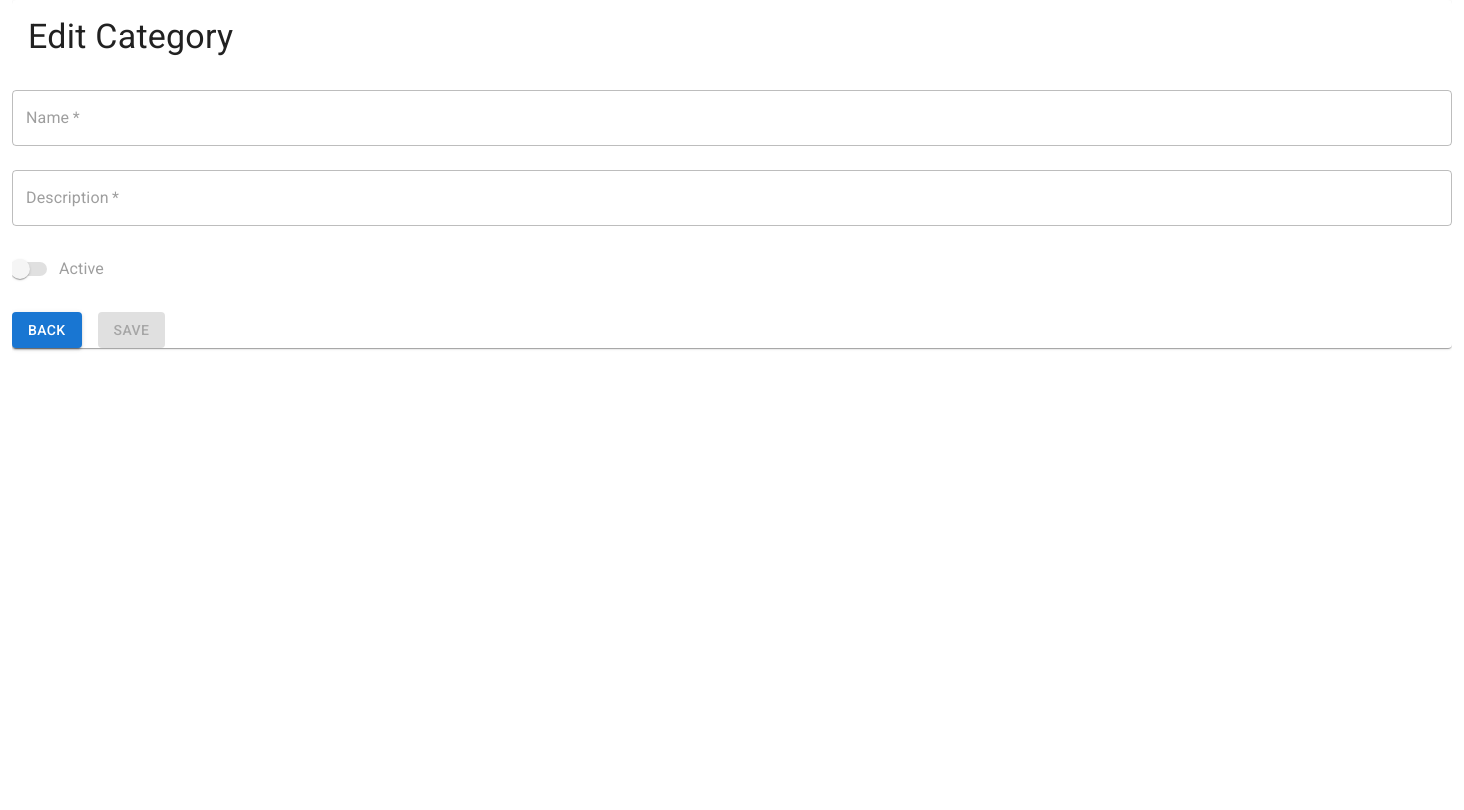
Test: EditCategory › should handle error
The image size is (1464, 810).
Type "test" into the field with test id "name" at x=732, y=118, box [12,90,1452,146]
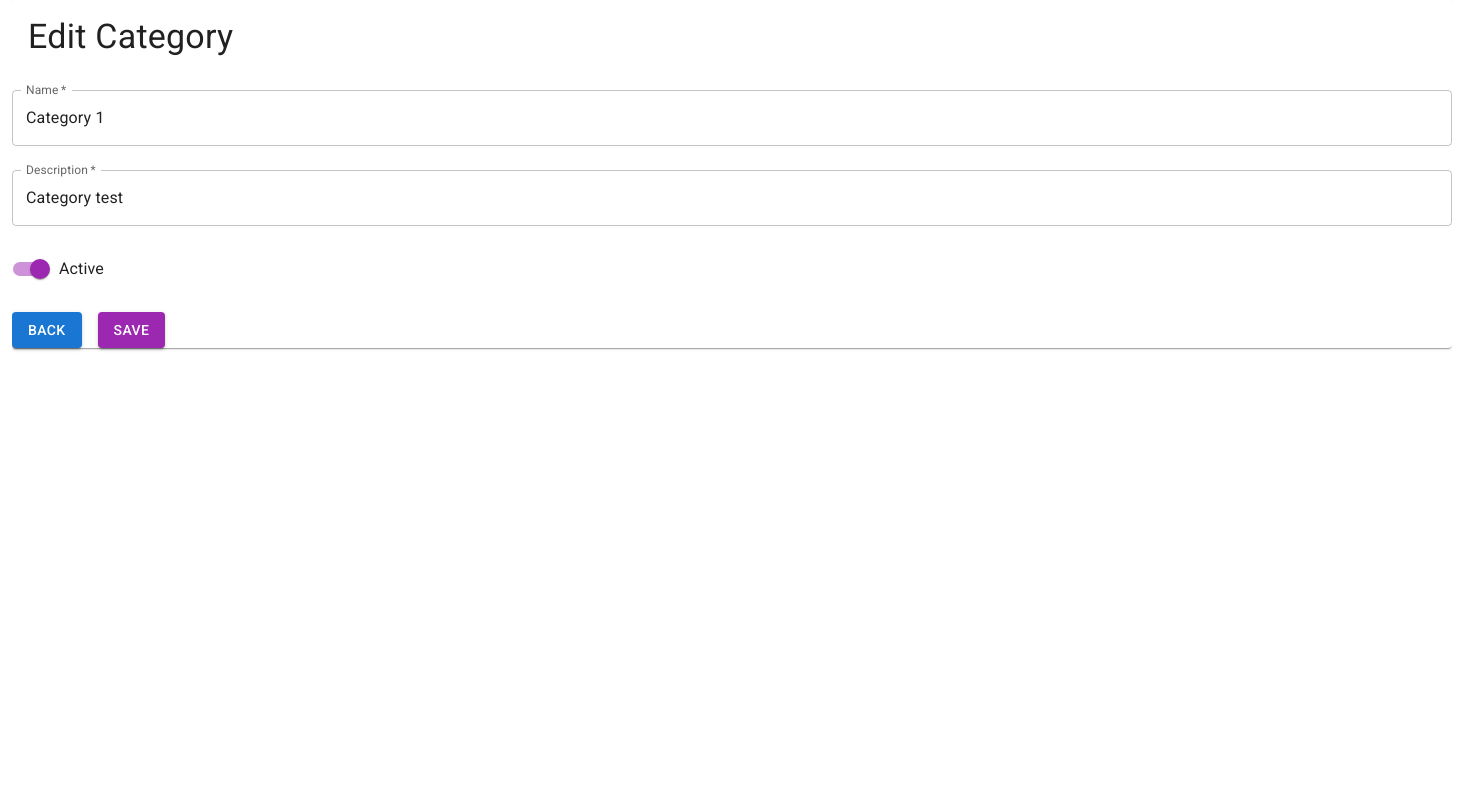
Replace the text in the field with test id "description" with "test desc" at x=732, y=198, box [12,170,1452,226]
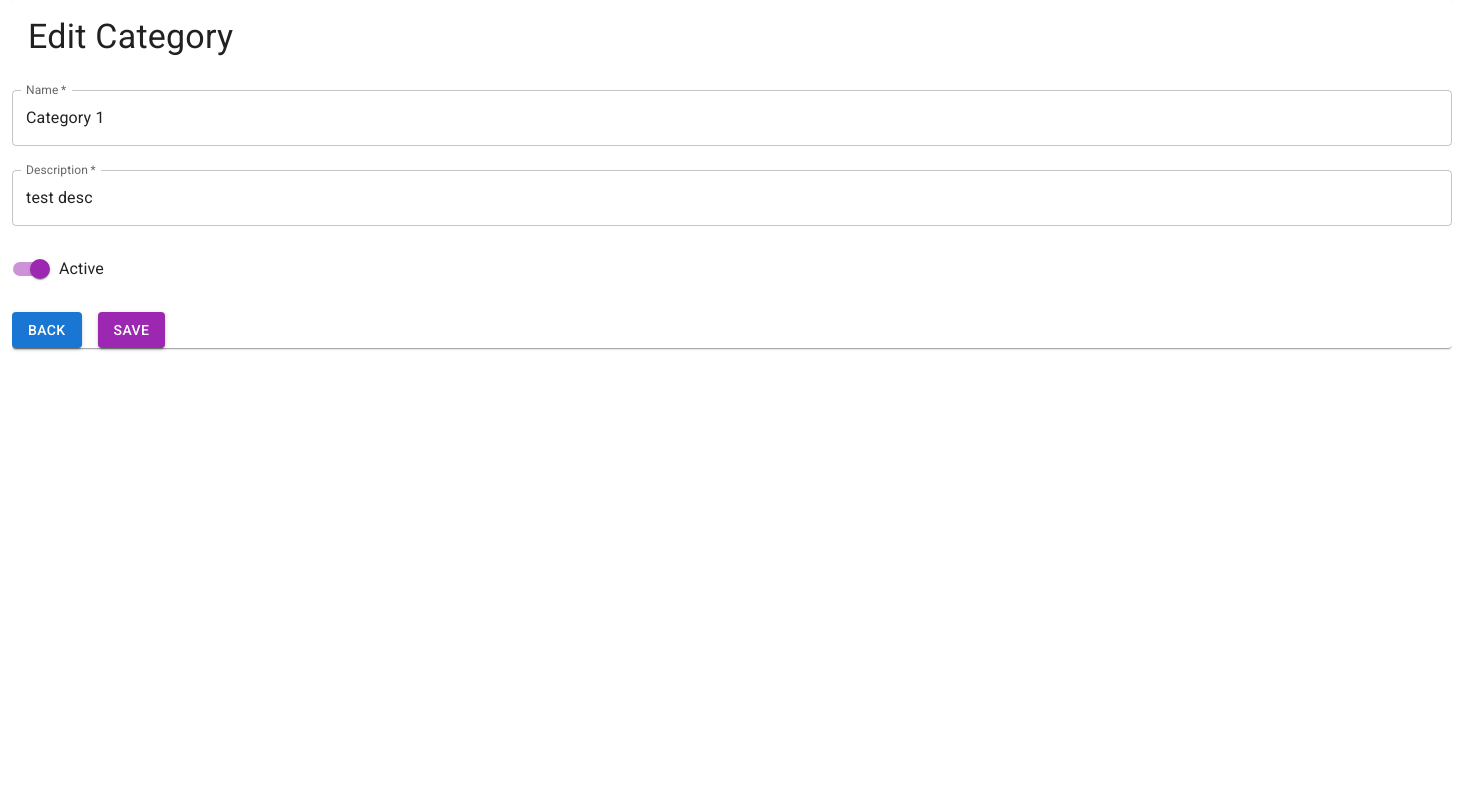
Click the element with test id "is_active" at x=40, y=269, box [30,259,50,279]
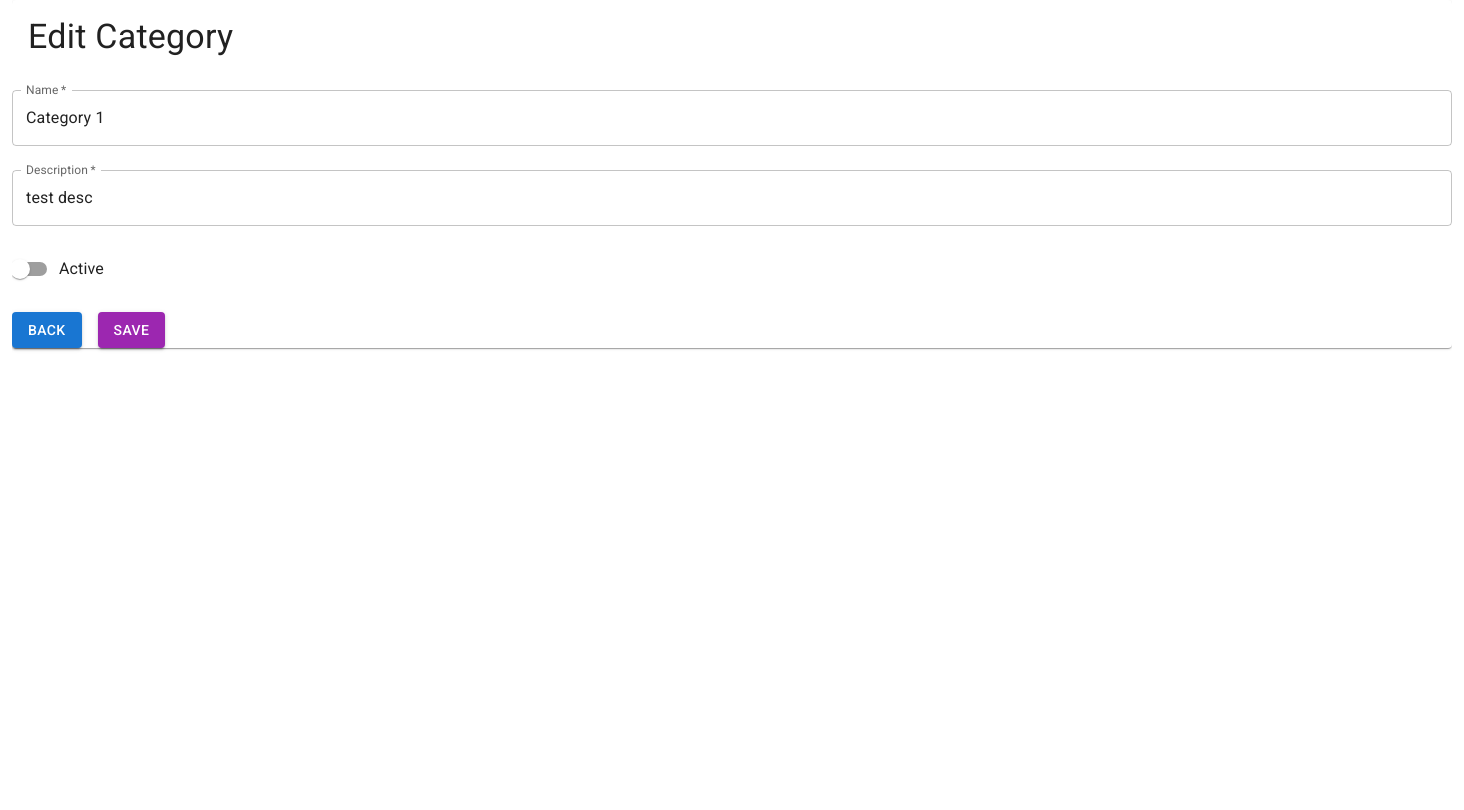
Click the button "Save" at x=132, y=330, box [98,312,165,348]
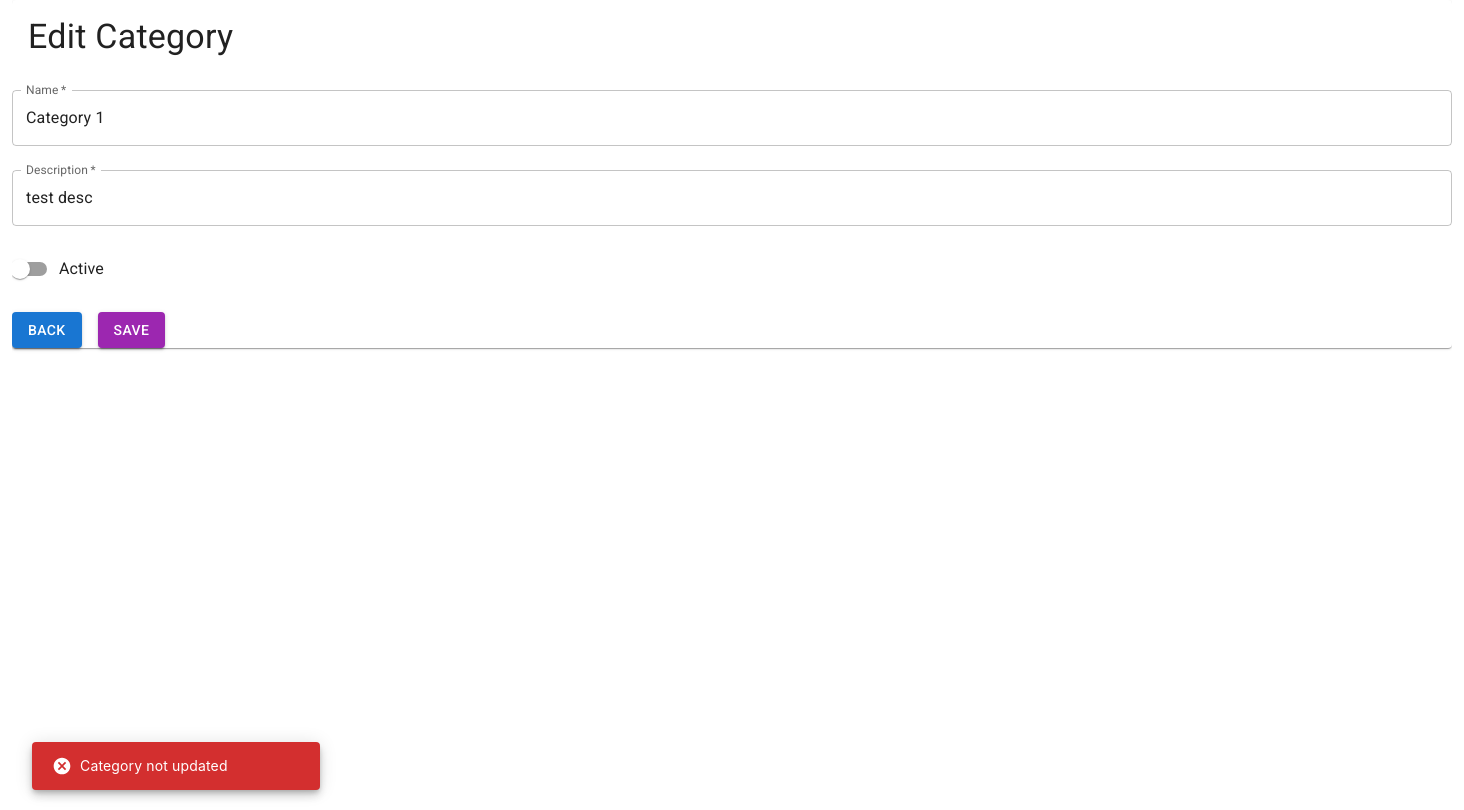
Result: the text "Category not updated" is shown at [52,756,228,776]
